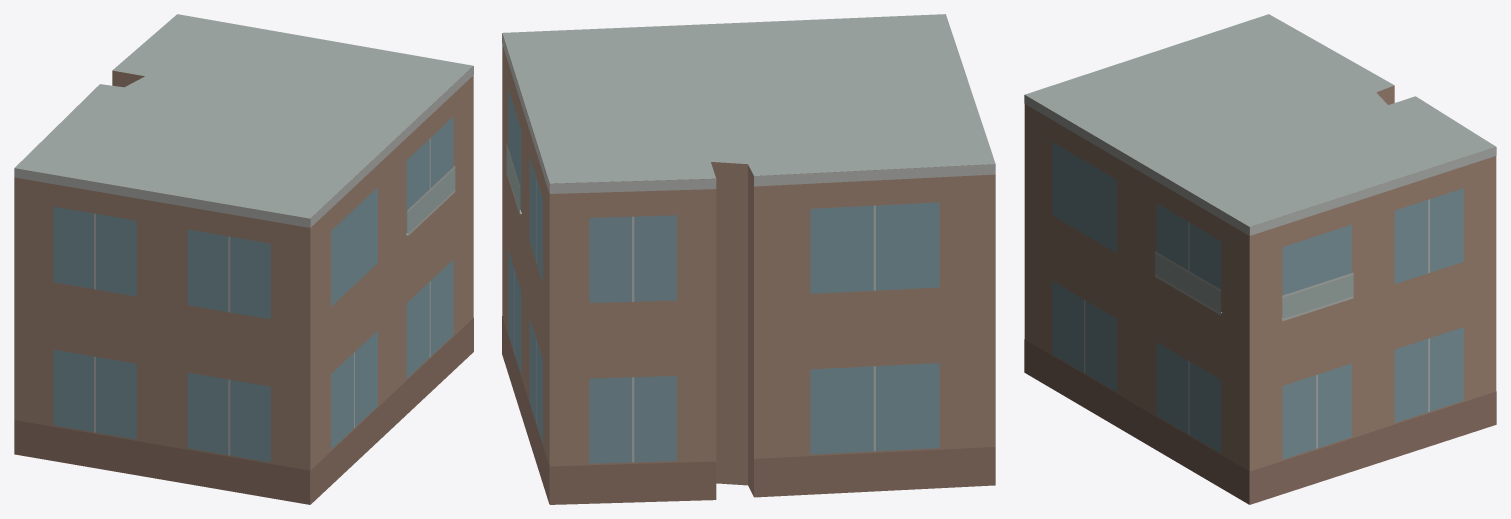
Rendered from survey-upis-32635878.glb.
3 views of the same model, side by side, from view 1: azimuth 30°, elevation 25°; view 2: azimuth 150°, elevation 25°; view 3: azimuth 270°, elevation 25° (orthographic). The views are drawn at different scales.
Parts seen in each view (by area): view 1: survey-upis-32635878.tmp; view 2: survey-upis-32635878.tmp; view 3: survey-upis-32635878.tmp.
Part boxes in pixels (x1,y1,x2,y2): survey-upis-32635878.tmp: (14, 14, 473, 504); survey-upis-32635878.tmp: (502, 14, 995, 504); survey-upis-32635878.tmp: (1024, 14, 1496, 504).
Bounding box in the file's own units: 12.33 × 7.5 × 11.55.
